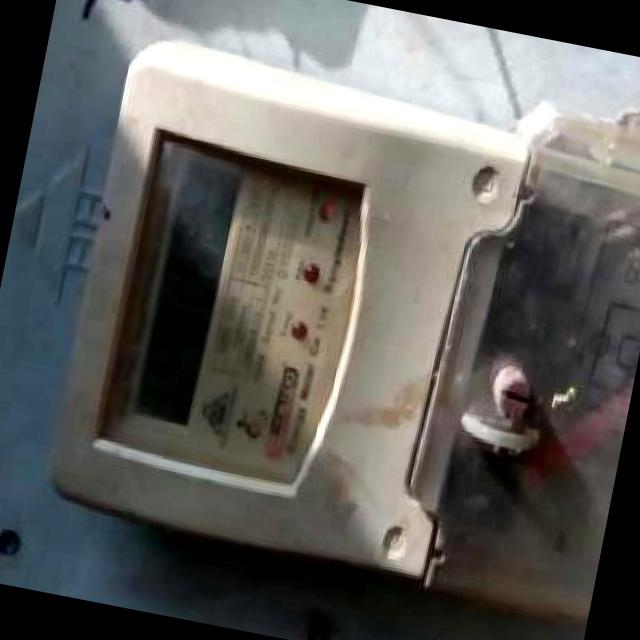LCD: (120, 146, 259, 437)
